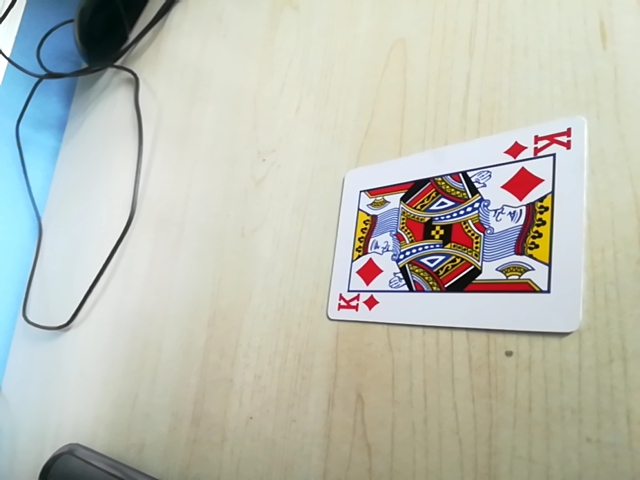fk k: (505, 127, 574, 161), (332, 290, 382, 318)
